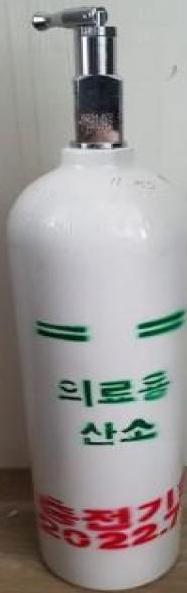cylinder: (1, 1, 187, 593)
